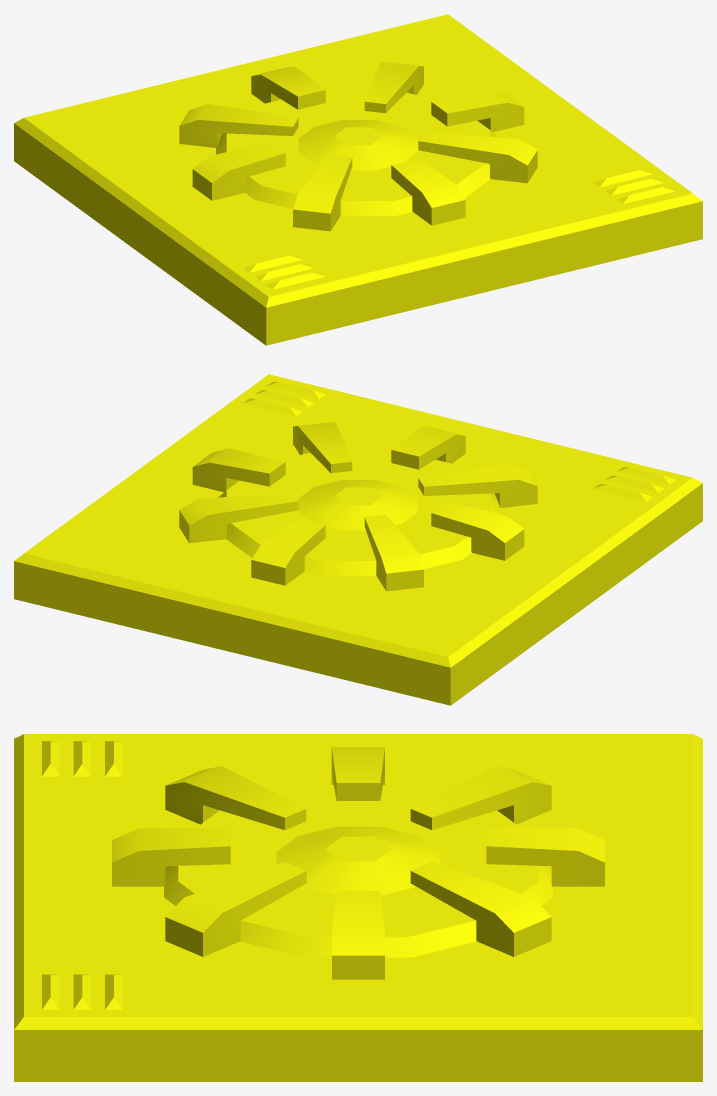
Rendered from stove_single_countertop.gltf.
3 views of the same model, one above another, from view 1: azimuth 30°, elevation 25°; view 2: azimuth 150°, elevation 25°; view 3: azimuth 270°, elevation 25° (orthographic). The views are drawn at different scales.
Parts seen in each view (by area): view 1: stove_single_countertop; view 2: stove_single_countertop; view 3: stove_single_countertop.
Part boxes in pixels (x1,y1,x2,y2): stove_single_countertop: [14, 14, 702, 345]; stove_single_countertop: [14, 374, 702, 705]; stove_single_countertop: [14, 734, 702, 1081].
Bounding box in the file's own units: 1.75 × 0.2777 × 1.75.
1 material, 1 textured.
